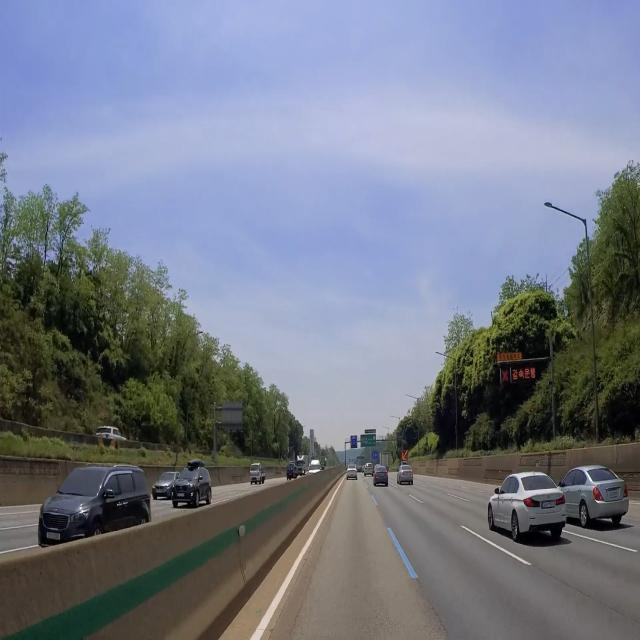car: (43, 527, 64, 547), (606, 488, 622, 502), (540, 500, 559, 510), (175, 490, 186, 503), (155, 488, 165, 499), (379, 472, 385, 478), (403, 472, 410, 477), (349, 473, 356, 478)
